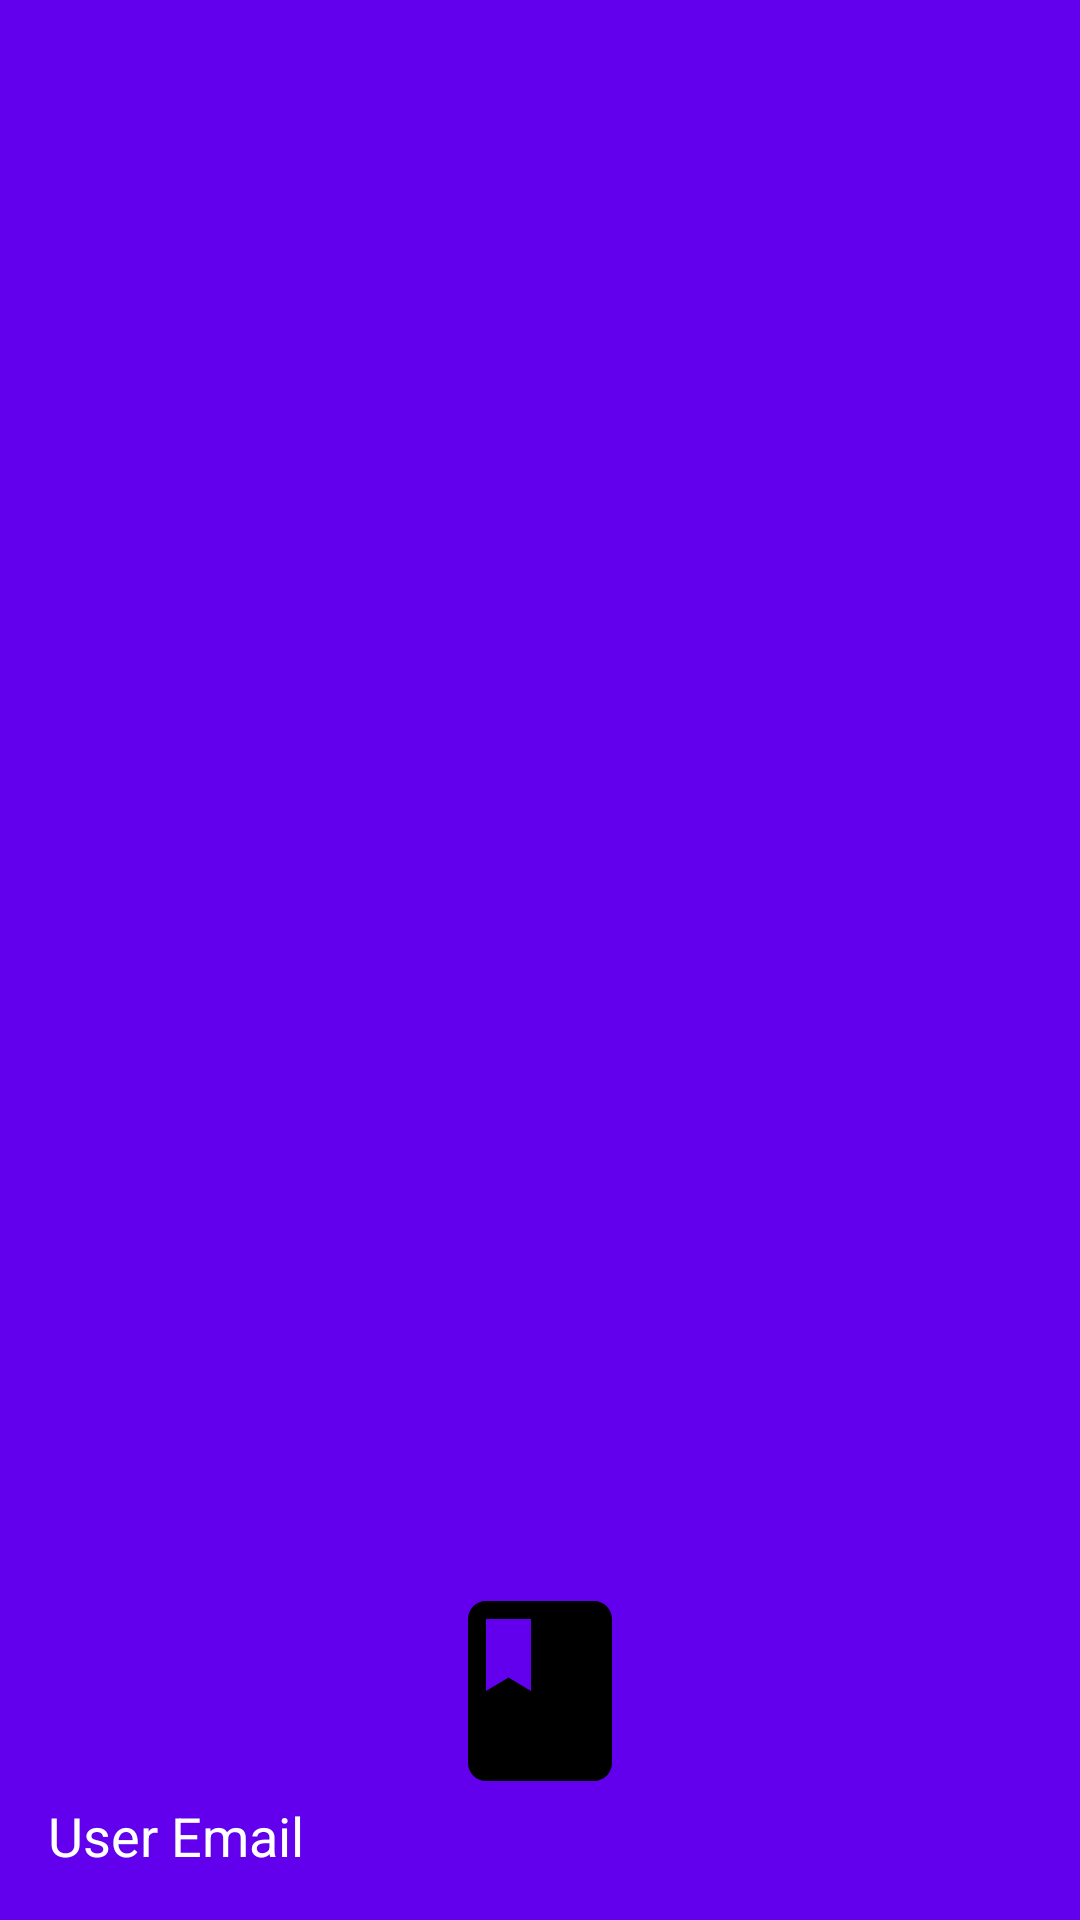

Screen size 1080×1920. Icon name, then its box in pixels as [x1,y1,x2,y2]:
Book Cover: [468,1601,612,1781]
